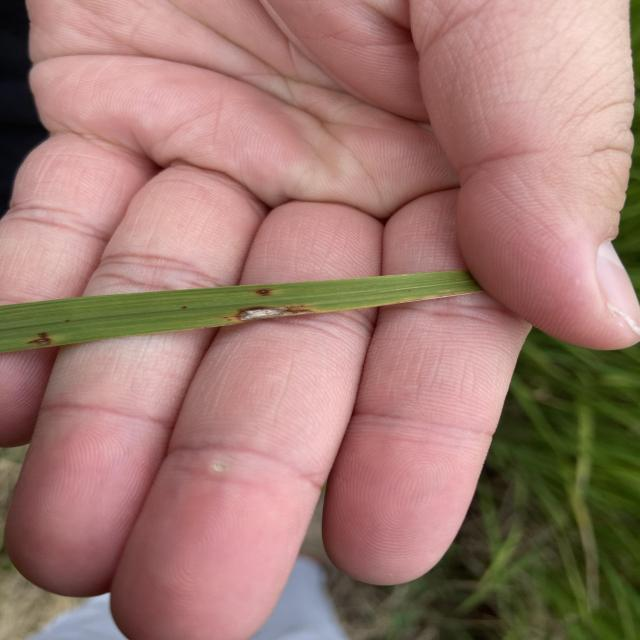Dao on: (214, 305, 317, 325), (28, 331, 53, 347), (254, 288, 271, 297)
